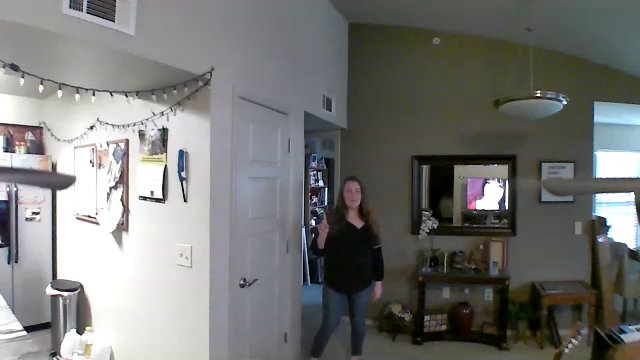up: (314, 209, 334, 236)
